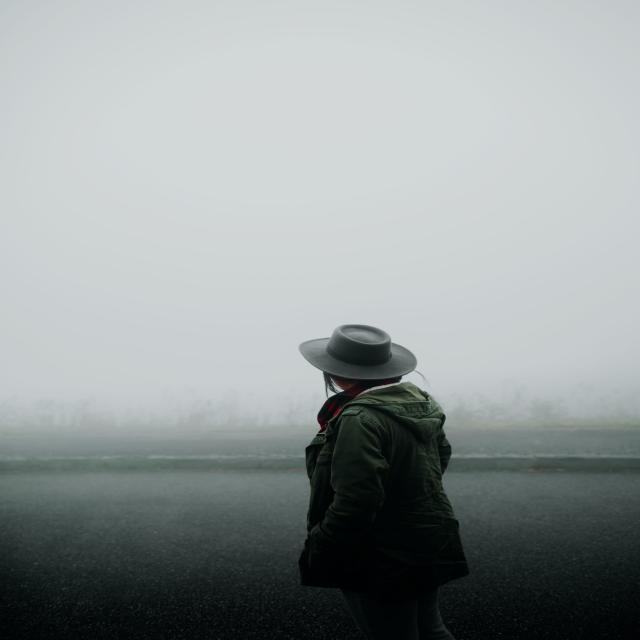adult: (292, 331, 472, 640)
